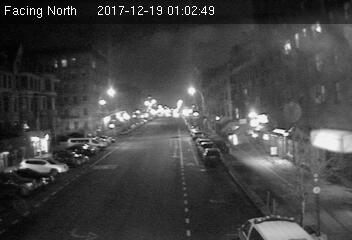car: (203, 148, 221, 163)
police: (233, 213, 311, 240)
